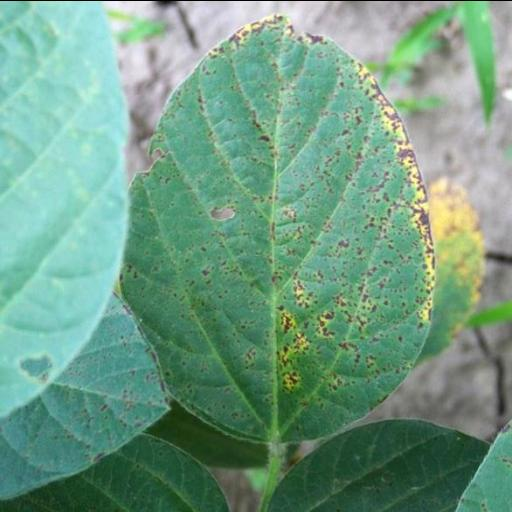disease_tomato: (130, 2, 438, 450)
